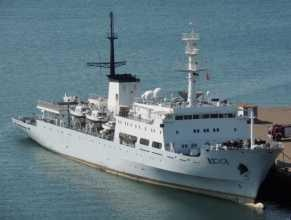warship: (11, 10, 284, 205)
